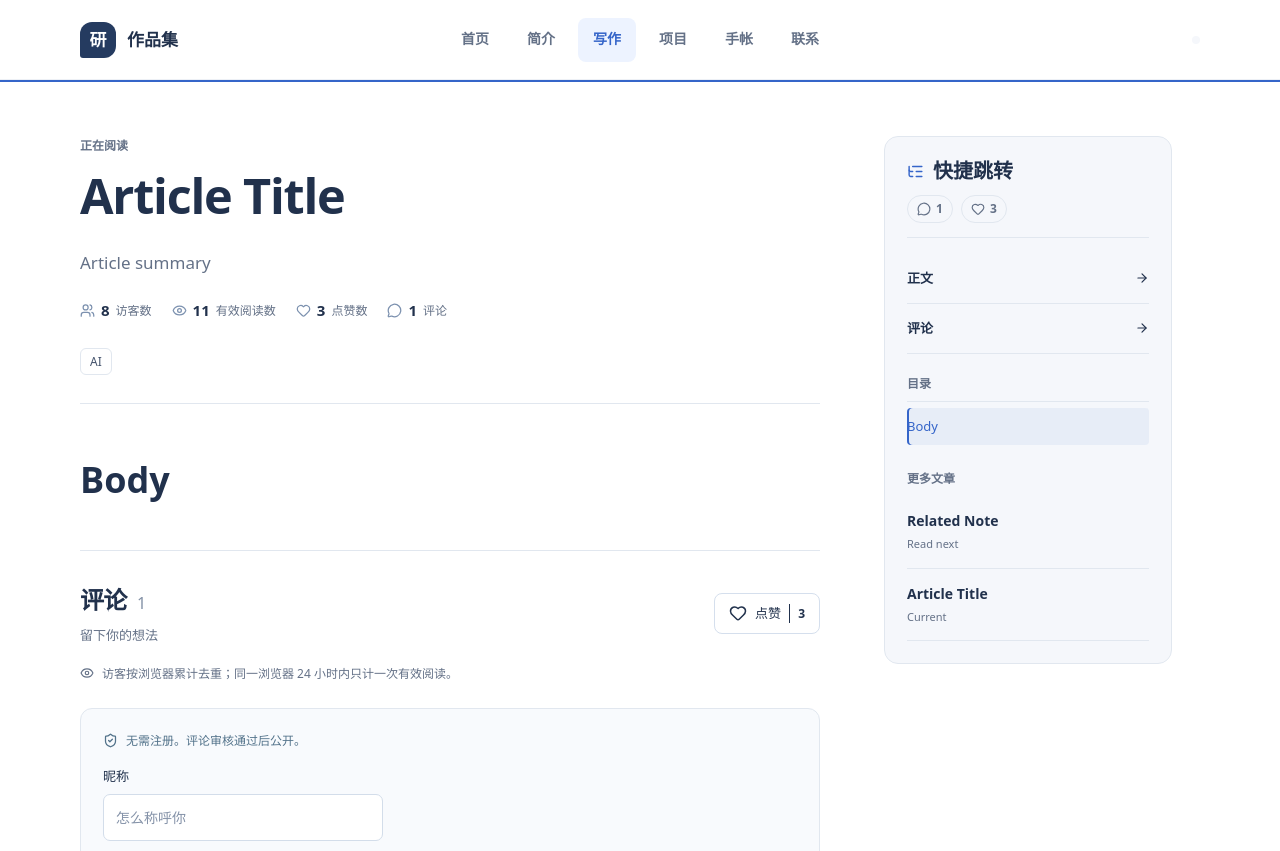
public locale routes › renders writing quick jumps and supports server likes and moderated comments
The image size is (1280, 851).
Check: the heading "Article Title" is shown, box [80,162,345,228]
Check: the navigation bar named "快捷跳转" is shown, box [907,254,1149,354]
Click the button "点赞 3" at (767, 613), box [714,593,820,634]
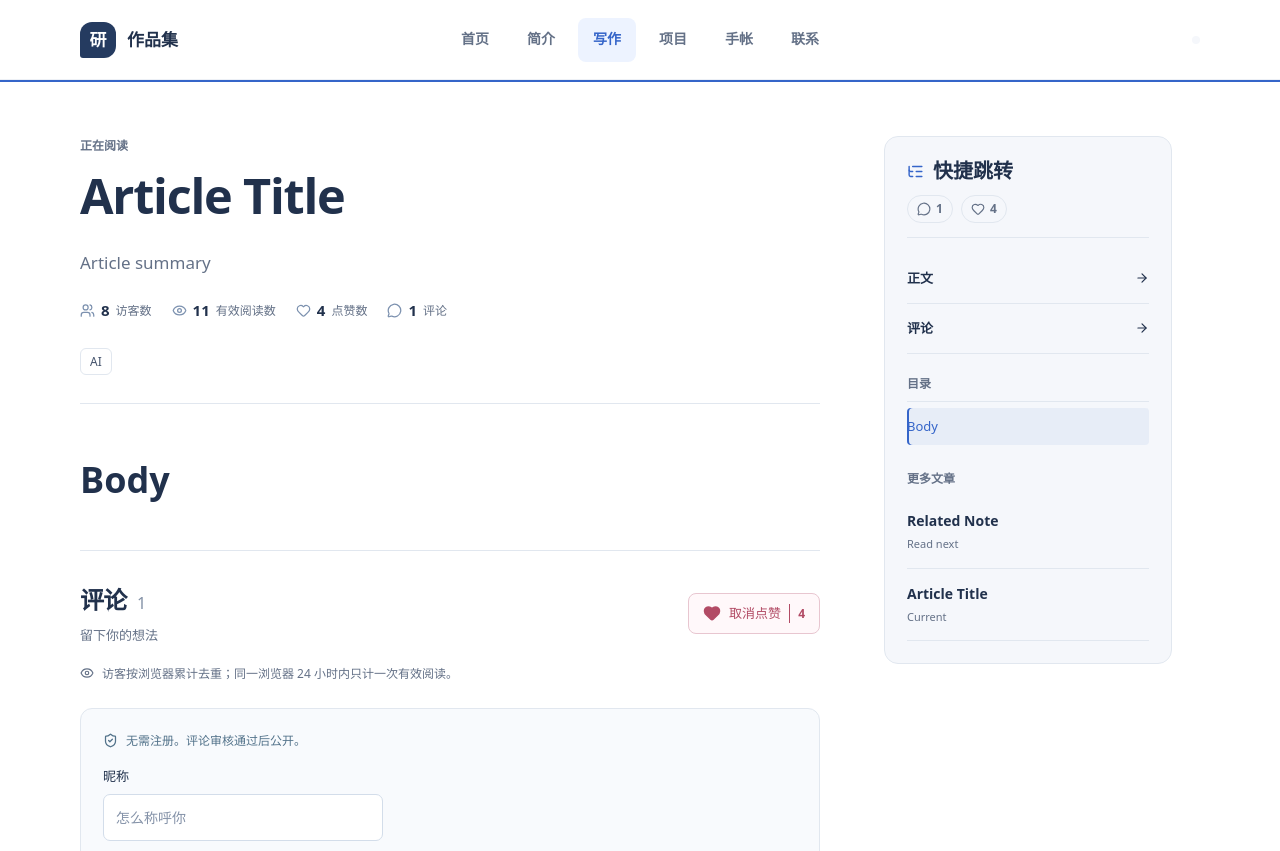
Check: the button "取消点赞 4" is shown, box [688,593,820,634]
Type "Lin" into the field labelled "昵称" at (243, 818), box [103,794,383,841]
(page scrolled)
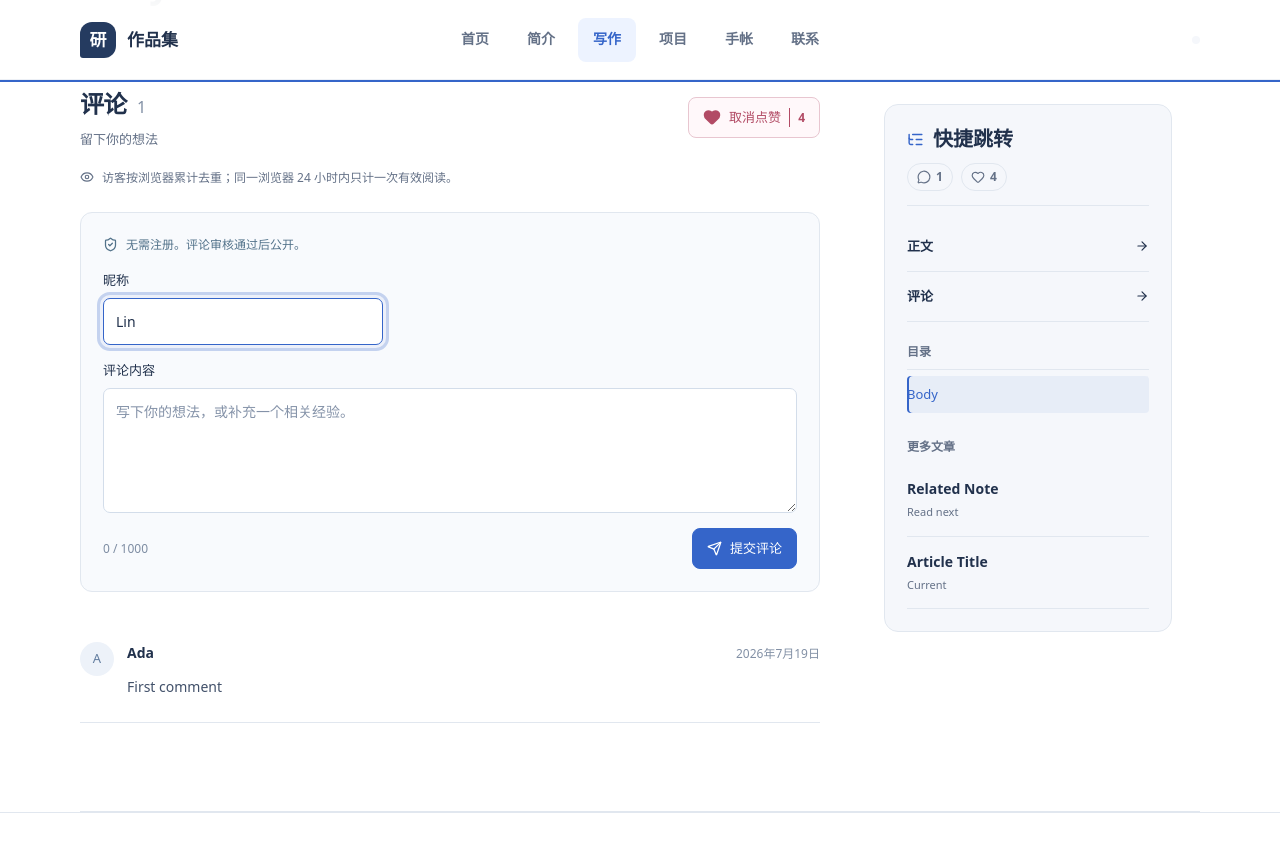
Type "New thought" into the text box labelled "评论内容" at (450, 451), box [103,388,797,513]
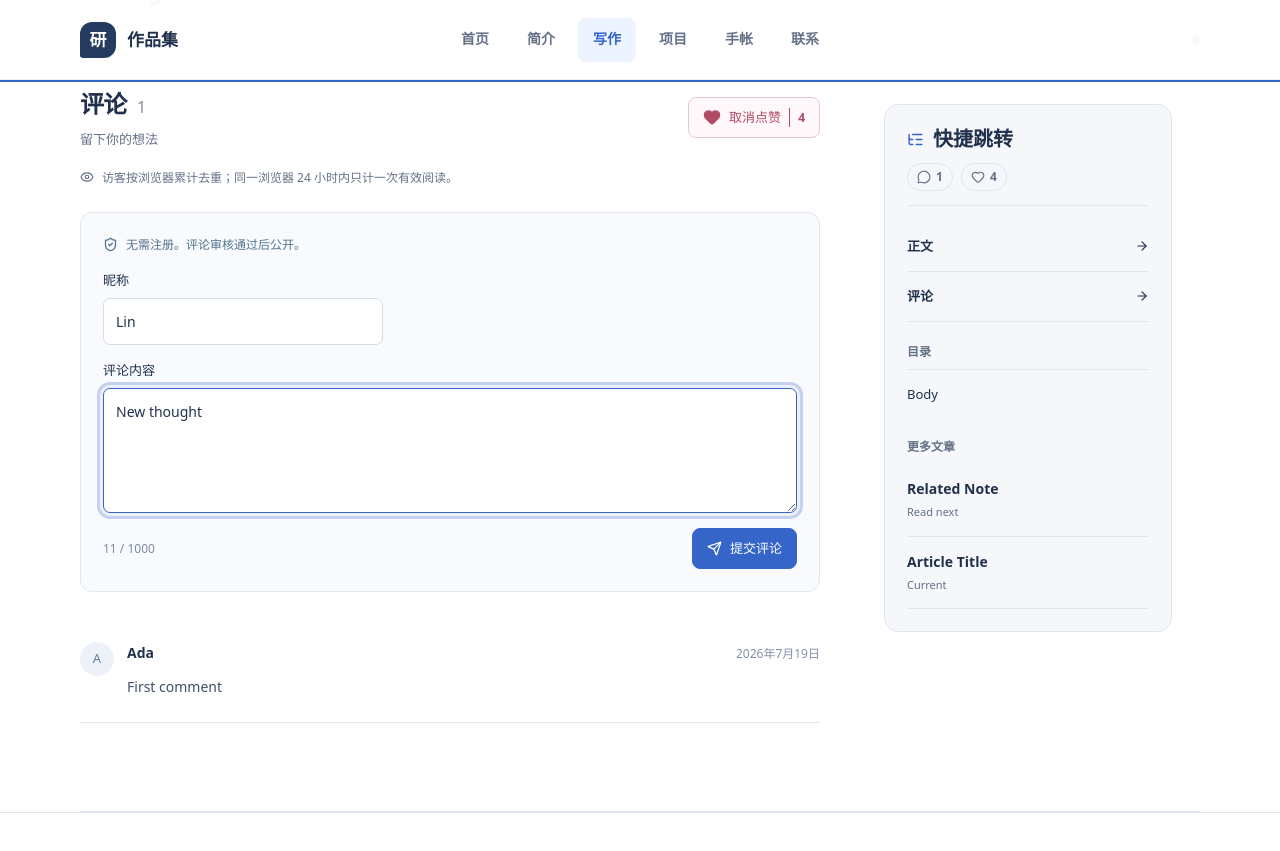
Click the button "提交评论" at (744, 548), box [692,528,797,569]
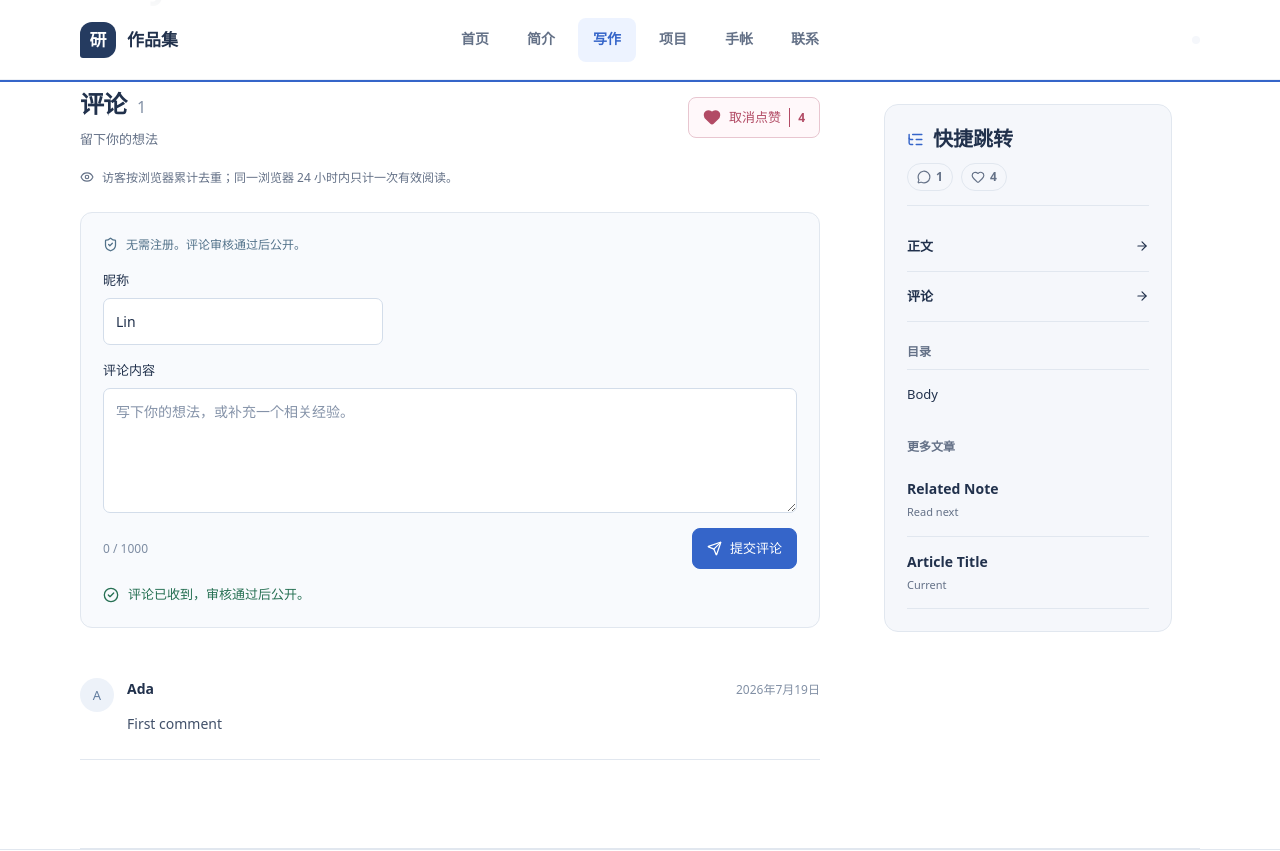
Check: the text "New thought" is not shown
Check: the message shows "审核通过后公开", box [128,585,310,603]
